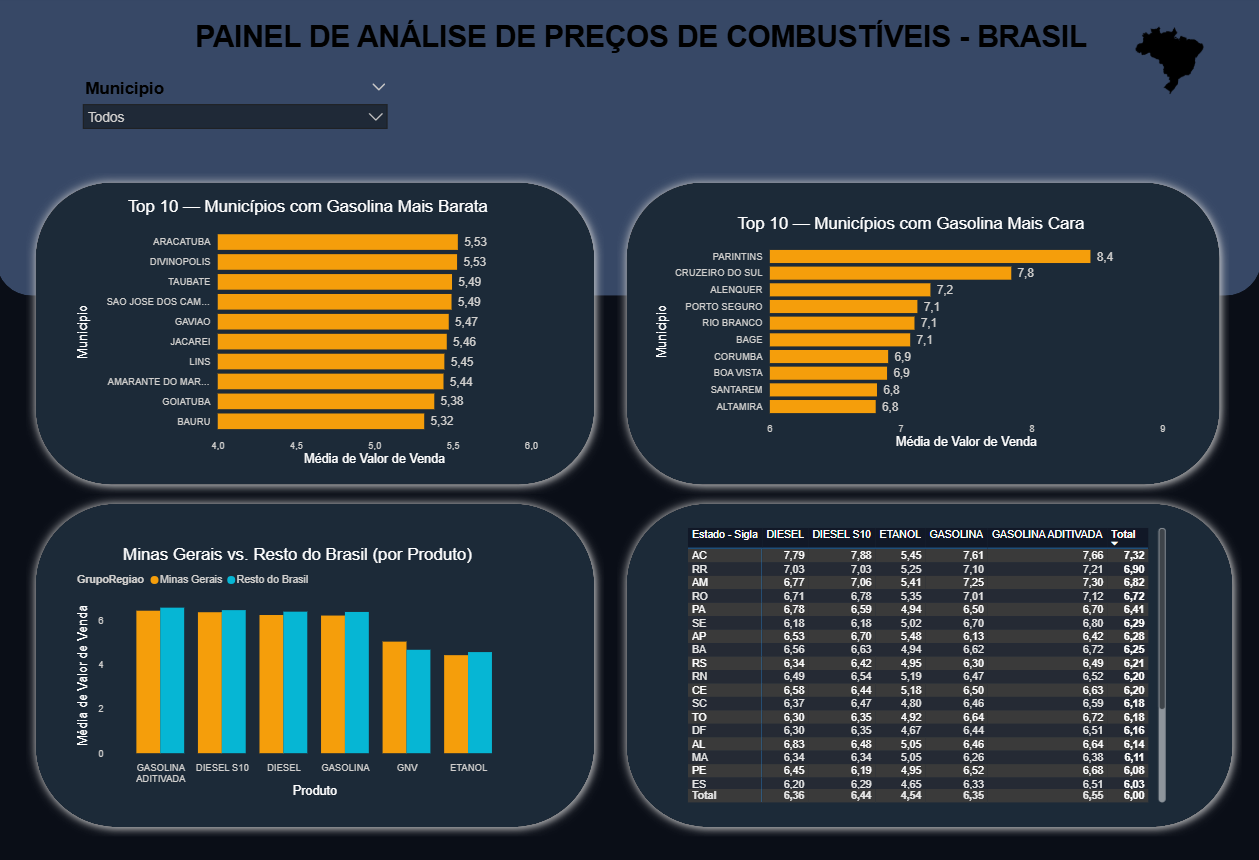

Layout of this report page (visuals, bound fields, positions):
{"tool":"powerbi","page":{"name":"Página 2","canvas":[1600,1100],"ordinal":1},"visuals":[{"type":"shape","box":[784.9,630.1,790.4,433.2],"z":0},{"type":"shape","box":[0,0,1599.8,378.9],"z":1000},{"type":"shape","box":[38,630.1,730.6,433.2],"z":2000},{"type":"shape","box":[784.9,224.1,774.1,406],"z":3000},{"type":"shape","box":[38,224.1,730.6,406],"z":4000},{"type":"clusteredBarChart","title":"Top 10 — Municípios com Gasolina Mais Cara","fields":{"Category":["precos_combustiveis_tratados.Municipio"],"Y":["Avg(precos_combustiveis_tratados.Valor de Venda)"]},"box":[829.8,275.7,654.6,301.5],"z":5000},{"type":"clusteredBarChart","title":"Top 10 — Municípios com Gasolina Mais Barata","fields":{"Category":["precos_combustiveis_tratados.Municipio"],"Y":["Avg(precos_combustiveis_tratados.Valor de Venda)"]},"box":[97.8,254,593.5,344.9],"z":6000},{"type":"clusteredColumnChart","title":"Minas Gerais vs. Resto do Brasil (por Produto)","fields":{"Category":["precos_combustiveis_tratados.Produto"],"Series":["precos_combustiveis_tratados.GrupoRegiao"],"Y":["Avg(precos_combustiveis_tratados.Valor de Venda)"]},"box":[97.8,694,567.7,324.6],"z":7000},{"type":"textbox","box":[190.1,25.8,1252.1,110],"z":8000},{"type":"slicer","fields":{"Values":["precos_combustiveis_tratados.Municipio"]},"box":[100.5,100.5,404.7,84.2],"z":9000},{"type":"pivotTable","title":"Preço Médio de Gasolina por Estado","fields":{"Rows":["precos_combustiveis_tratados.Estado - Sigla"],"Values":["Avg(precos_combustiveis_tratados.Valor de Venda)"],"Columns":["precos_combustiveis_tratados.Produto"]},"box":[870.5,668.1,613.8,357.2],"z":10000},{"type":"image","box":[1428.6,38,110,86.9],"z":11000}]}

Visuals, with their boxes in screenshot pixels (x1, y1, x2, y2), scaled from the page's 1600x1100 canvas onto the 1259x860 screenshot:
shape: <box>618,493,1240,831</box>
shape: <box>0,0,1258,296</box>
shape: <box>30,493,605,831</box>
shape: <box>618,175,1227,493</box>
shape: <box>30,175,605,493</box>
"Top 10 — Municípios com Gasolina Mais Cara" clusteredBarChart: <box>653,216,1168,451</box>
"Top 10 — Municípios com Gasolina Mais Barata" clusteredBarChart: <box>77,199,544,468</box>
"Minas Gerais vs. Resto do Brasil (por Produto)" clusteredColumnChart: <box>77,543,524,796</box>
textbox: <box>150,20,1135,106</box>
slicer - precos_combustiveis_tratados.Municipio: <box>79,79,398,144</box>
"Preço Médio de Gasolina por Estado" pivotTable: <box>685,522,1168,802</box>
image: <box>1124,30,1211,98</box>
